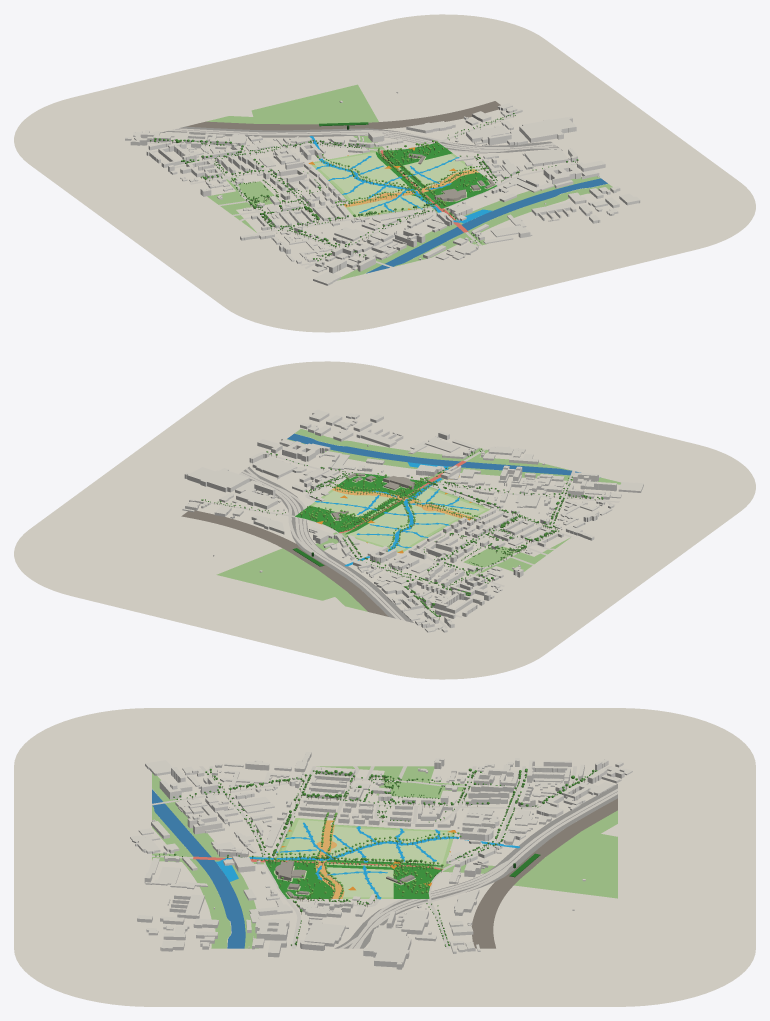
The model's file is kontext.glb.
3 views of the same model, one above another, from view 1: azimuth 30°, elevation 25°; view 2: azimuth 150°, elevation 25°; view 3: azimuth 270°, elevation 25° (orthographic). The views are drawn at different scales.
Visible parts, largest first — view 1: boden, kontext_dach, kontext, gruen_kontext, strasse, gebiet_garten, baeume_bestand, bahn, autobahn, hauptader, wasser, baeume_adern (+3 smaller); view 2: boden, kontext_dach, kontext, gruen_kontext, strasse, gebiet_garten, baeume_bestand, bahn, hauptader, wasser, baeume_adern, autobahn (+3 smaller); view 3: boden, kontext_dach, kontext, gruen_kontext, strasse, gebiet_garten, baeume_bestand, bahn, hauptader, wasser, autobahn, baeume_adern (+4 smaller).
Boxes of the visible parts, x1,y1,x2,y2 form: boden: [14, 14, 755, 332]; kontext_dach: [125, 91, 639, 283]; kontext: [125, 92, 640, 285]; gruen_kontext: [206, 84, 612, 280]; strasse: [147, 115, 576, 268]; gebiet_garten: [314, 153, 492, 215]; baeume_bestand: [150, 113, 578, 261]; bahn: [186, 101, 500, 130]; autobahn: [160, 126, 562, 153]; hauptader: [376, 142, 496, 208]; wasser: [366, 178, 607, 273]; baeume_adern: [316, 140, 488, 210]; boden: [14, 361, 755, 679]; kontext_dach: [182, 409, 643, 631]; kontext: [182, 413, 643, 632]; gruen_kontext: [216, 429, 620, 611]; strasse: [202, 449, 619, 628]; gebiet_garten: [313, 475, 485, 551]; baeume_bestand: [201, 448, 603, 619]; bahn: [181, 510, 388, 616]; hauptader: [295, 473, 427, 534]; wasser: [287, 433, 600, 477]; baeume_adern: [300, 473, 480, 551]; autobahn: [241, 466, 413, 622]; boden: [14, 708, 755, 1006]; kontext_dach: [130, 752, 632, 964]; kontext: [130, 752, 632, 969]; gruen_kontext: [152, 766, 617, 948]; strasse: [152, 766, 617, 948]; gebiet_garten: [274, 819, 451, 897]; baeume_bestand: [155, 768, 597, 946]; bahn: [471, 798, 617, 948]; hauptader: [265, 856, 442, 898]; wasser: [152, 789, 245, 948]; autobahn: [334, 784, 617, 948]; baeume_adern: [257, 812, 461, 901].
Bounding box in the file's own units: 2050 × 29.65 × 2150.
